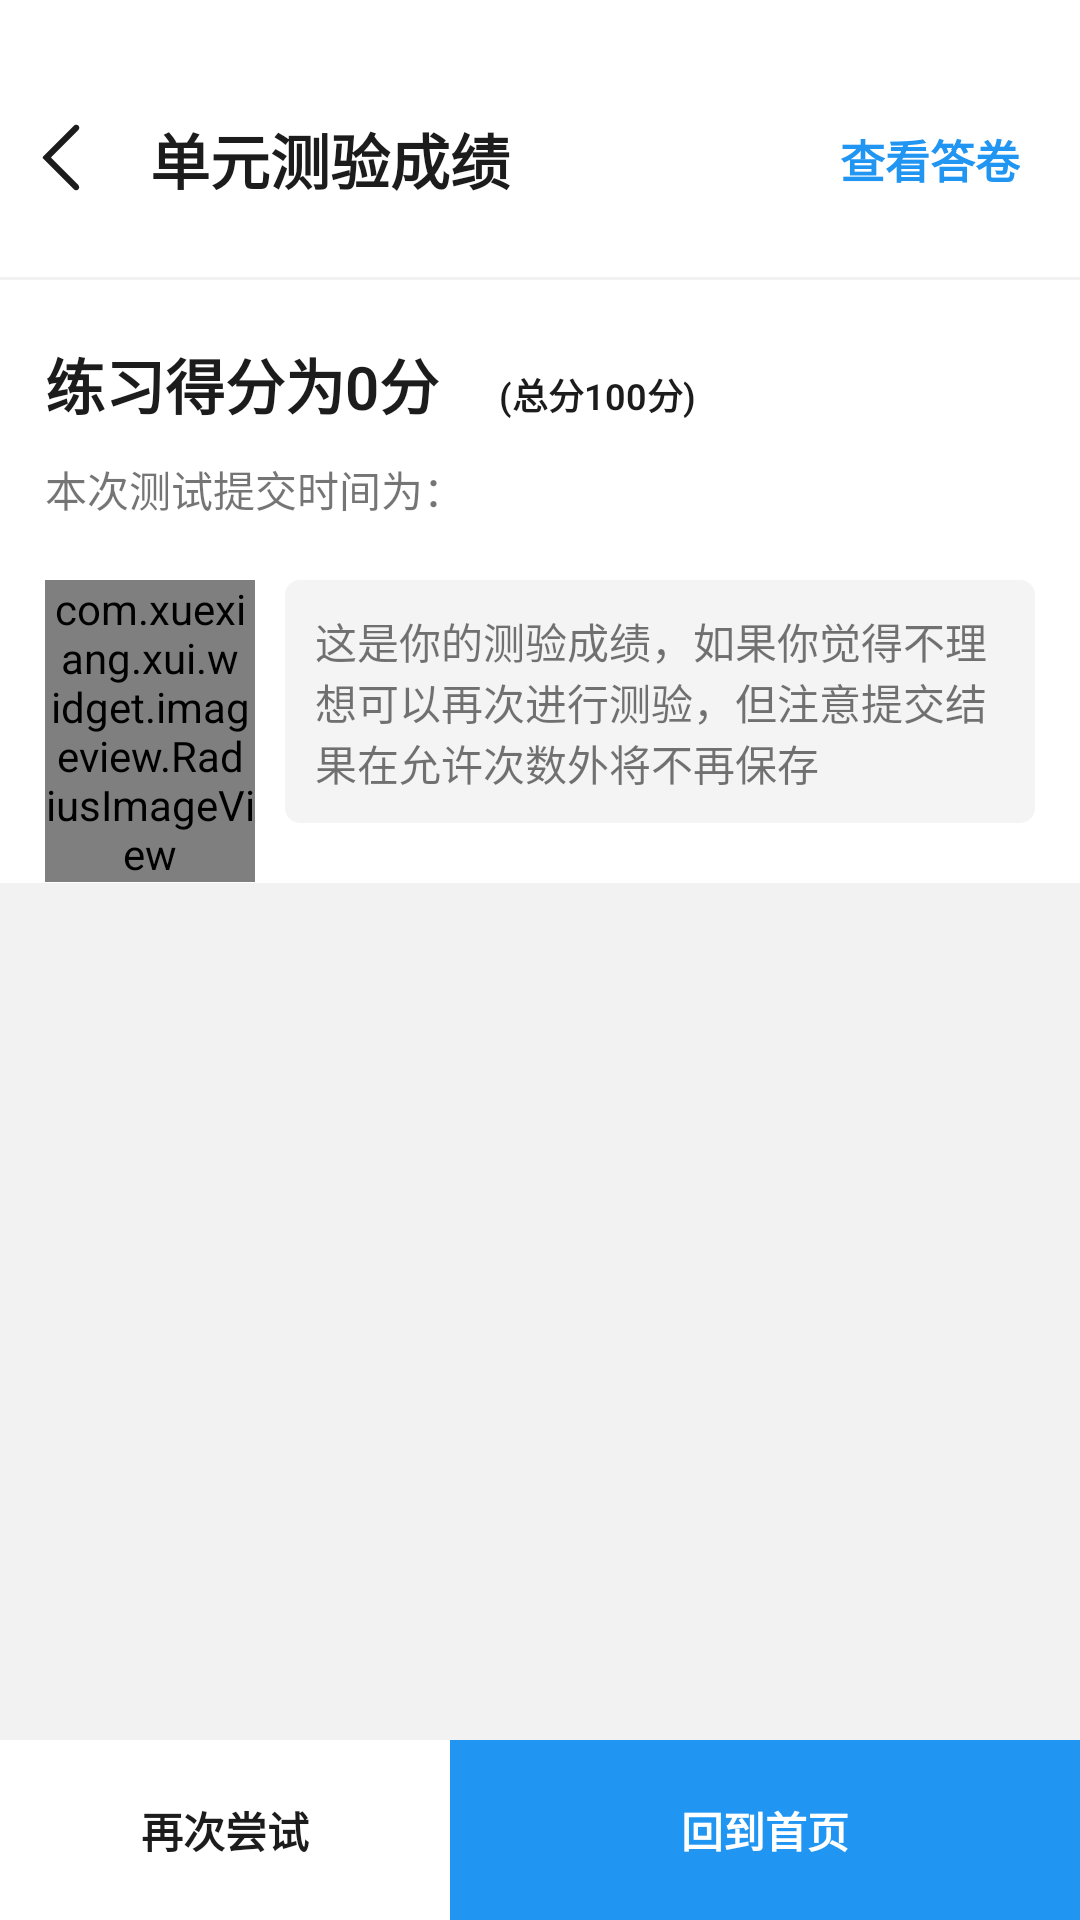

Where icons sit on this 1080×1920 app screen, as bbox(x1, y1, x2, y2):
back: bbox(42, 124, 80, 191)
